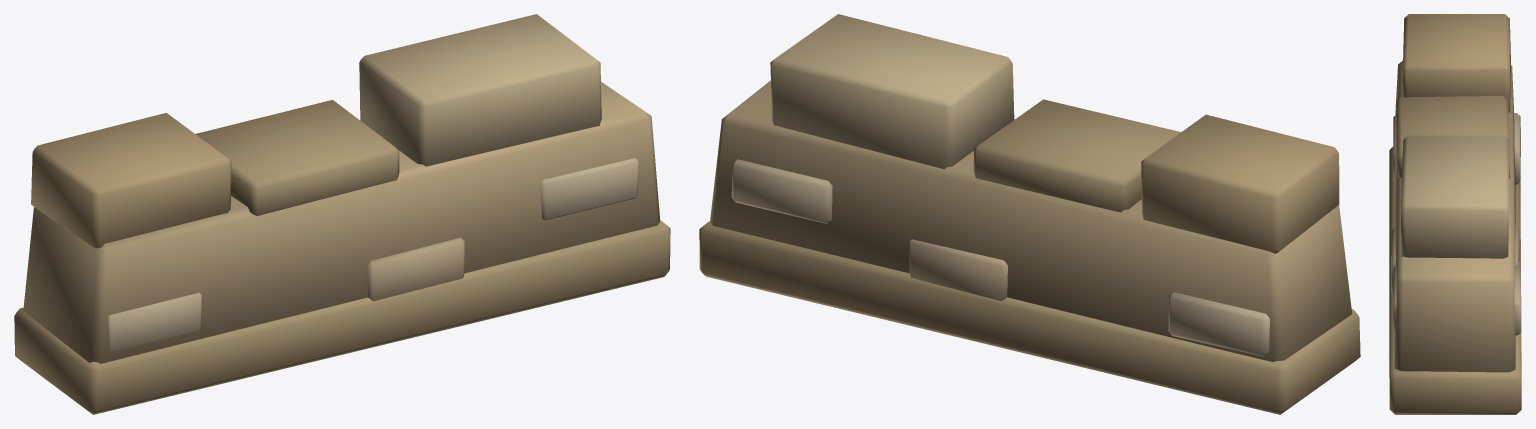
File: ruins_wall_a.glb
3 renders of one model, left to right at view 1: azimuth 30°, elevation 25°; view 2: azimuth 150°, elevation 25°; view 3: azimuth 270°, elevation 25°, orthographic. The views are drawn at different scales.
Visible parts, largest first — view 1: ruins_wall_a; view 2: ruins_wall_a; view 3: ruins_wall_a.
Boxes of the visible parts, x1,y1,x2,y2 form: ruins_wall_a: [14, 14, 670, 414]; ruins_wall_a: [699, 14, 1360, 414]; ruins_wall_a: [1389, 14, 1521, 414].
Size of what is drawn, in the model's own units: 4.03 by 1.51 by 0.9685.
